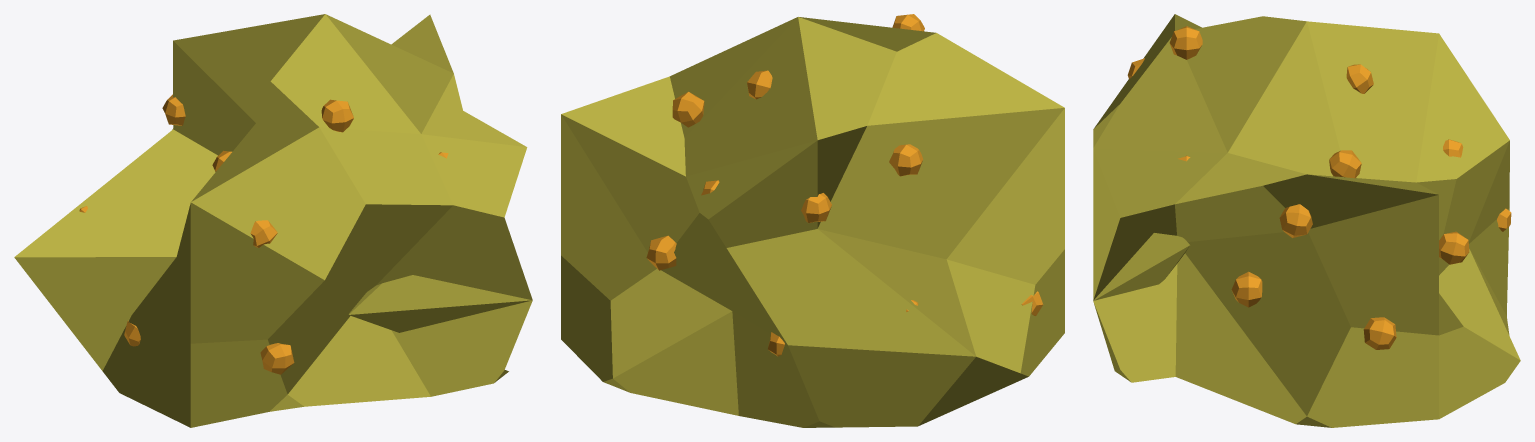
File: bush.fbx
3 renders of one model, left to right at view 1: azimuth 30°, elevation 25°; view 2: azimuth 150°, elevation 25°; view 3: azimuth 270°, elevation 25°, orthographic.
Visible parts, largest first — view 1: pPlatonic2, pCube46, pCube39, pCube47, pCube42; view 2: pPlatonic2, pCube37, pCube41, pCube50, pCube42, pCube36; view 3: pPlatonic2, pCube49, pCube38, pCube39, pCube48, pCube50, pCube37, pCube36.
Boxes of the visible parts, bbox=[...] form: pPlatonic2: bbox=[14, 14, 532, 427]; pCube46: bbox=[260, 343, 294, 374]; pCube39: bbox=[321, 99, 353, 132]; pCube47: bbox=[250, 220, 277, 247]; pCube42: bbox=[162, 94, 185, 125]; pPlatonic2: bbox=[561, 17, 1064, 427]; pCube37: bbox=[672, 91, 704, 127]; pCube41: bbox=[889, 144, 923, 176]; pCube50: bbox=[646, 235, 676, 270]; pCube42: bbox=[801, 193, 831, 222]; pCube36: bbox=[747, 70, 772, 99]; pPlatonic2: bbox=[1093, 14, 1520, 427]; pCube49: bbox=[1363, 317, 1396, 349]; pCube38: bbox=[1279, 204, 1312, 237]; pCube39: bbox=[1169, 26, 1202, 59]; pCube48: bbox=[1231, 271, 1262, 307]; pCube50: bbox=[1439, 231, 1469, 264]; pCube37: bbox=[1329, 150, 1361, 178]; pCube36: bbox=[1346, 64, 1373, 93].
Size of the model in its own units: 1.66 by 1.14 by 1.41.
